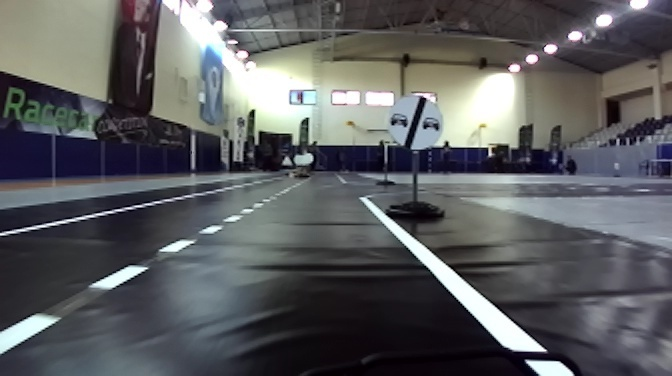sollama_serbest: (386, 93, 443, 150)
